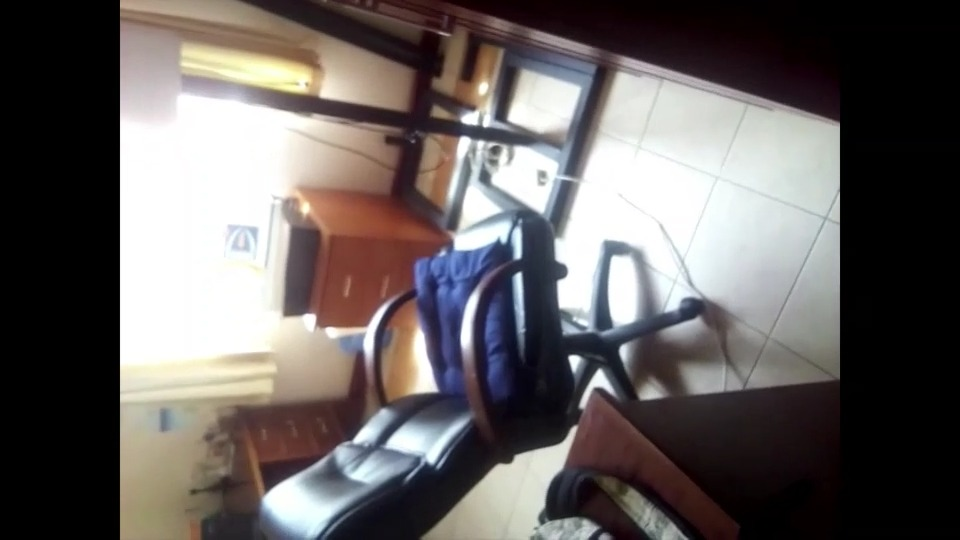wheat_flour_blue_label: (210, 185, 281, 291)
